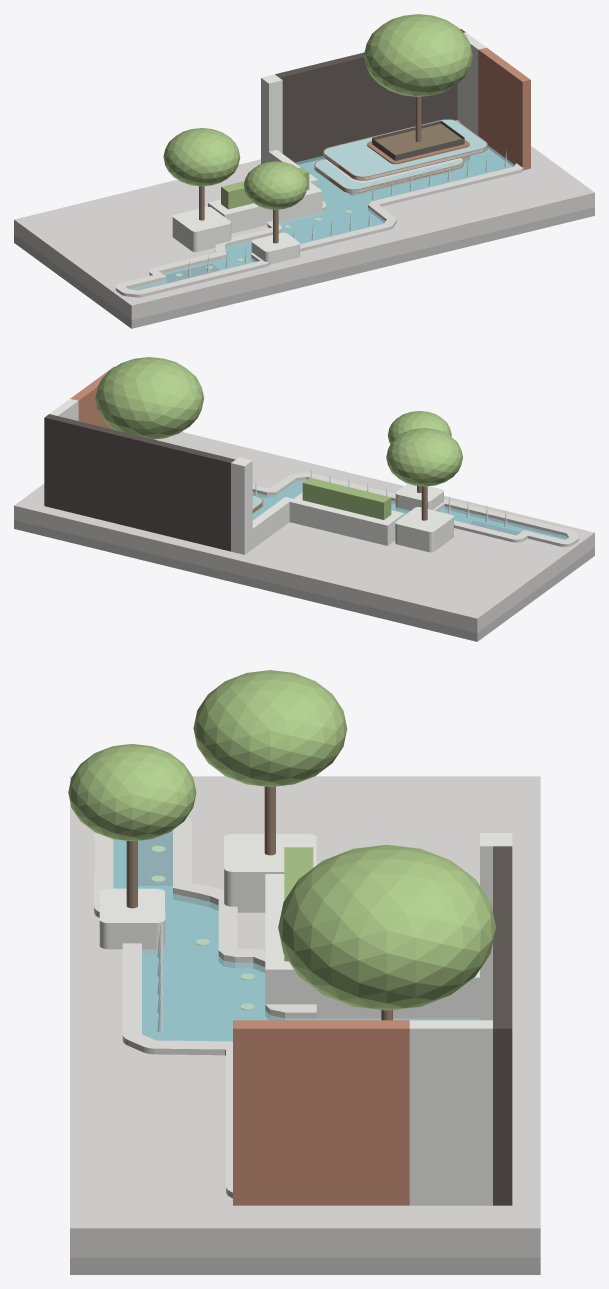
The model's file is water_feature_v03.glb.
3 renders of one model, top to bottom at view 1: azimuth 30°, elevation 25°; view 2: azimuth 150°, elevation 25°; view 3: azimuth 270°, elevation 25°, orthographic. The views are drawn at different scales.
Parts seen in each view (by area): view 1: Paving deck FFL+15.25, Feature wall (north) TOW 18.30, Water WL+15.25, Feature tree in planter canopy, Pool base (granite slab on frames), Structural slab, East wall (brick clad), Tree (north planter) canopy, Granite coping / kerb TOK+15.35_0, Upper cascade tray TOW+15.70, Water film WL+15.70, West planter wall + hedge planter (+15 smaller); view 2: Paving deck FFL+15.25, Feature wall (north) TOW 18.30, Feature tree in planter canopy, Structural slab, West planter wall + hedge planter, Tree (north planter) canopy, Granite coping / kerb TOK+15.35_0, Hedge (indicative), Pier NW, Tree planter (north), Water WL+15.25, Granite coping / kerb TOK+15.35_1 (+5 smaller); view 3: Paving deck FFL+15.25, East wall (brick clad), Feature tree in planter canopy, Water WL+15.25, Pier NE, Tree (north planter) canopy, Pool base (granite slab on frames), Tree (south planter) canopy, Structural slab, Feature wall (north) TOW 18.30, West planter wall + hedge planter, Granite coping / kerb TOK+15.35_0 (+9 smaller).
Boxes of the visible parts, left/top/right/bottom form: Paving deck FFL+15.25: left=14, top=146, right=594, bottom=319; Feature wall (north) TOW 18.30: left=275, top=29, right=465, bottom=164; Water WL+15.25: left=129, top=145, right=514, bottom=290; Feature tree in planter canopy: left=364, top=14, right=472, bottom=96; Pool base (granite slab on frames): left=135, top=148, right=512, bottom=290; Structural slab: left=14, top=207, right=594, bottom=328; East wall (brick clad): left=478, top=47, right=530, bottom=169; Tree (north planter) canopy: left=163, top=128, right=240, bottom=186; Granite coping / kerb TOK+15.35_0: left=115, top=220, right=282, bottom=297; Upper cascade tray TOW+15.70: left=323, top=120, right=487, bottom=180; Water film WL+15.70: left=324, top=119, right=486, bottom=176; West planter wall + hedge planter: left=208, top=150, right=322, bottom=233; Paving deck FFL+15.25: left=14, top=432, right=594, bottom=632; Feature wall (north) TOW 18.30: left=44, top=414, right=235, bottom=551; Feature tree in planter canopy: left=95, top=357, right=203, bottom=439; Structural slab: left=14, top=520, right=594, bottom=641; West planter wall + hedge planter: left=252, top=492, right=404, bottom=548; Tree (north planter) canopy: left=386, top=428, right=462, bottom=486; Granite coping / kerb TOK+15.35_0: left=432, top=499, right=578, bottom=546; Hedge (indicative): left=302, top=477, right=391, bottom=519; Pier NW: left=231, top=457, right=252, bottom=554; Tree planter (north): left=395, top=507, right=453, bottom=552; Water WL+15.25: left=252, top=479, right=567, bottom=539; Granite coping / kerb TOK+15.35_1: left=252, top=472, right=395, bottom=503; Paving deck FFL+15.25: left=70, top=776, right=540, bottom=1257; East wall (brick clad): left=233, top=1020, right=409, bottom=1205; Feature tree in planter canopy: left=278, top=844, right=495, bottom=1010; Water WL+15.25: left=113, top=830, right=479, bottom=1041; Pier NE: left=409, top=1020, right=492, bottom=1205; Tree (north planter) canopy: left=193, top=670, right=347, bottom=787; Pool base (granite slab on frames): left=113, top=839, right=268, bottom=1041; Tree (south planter) canopy: left=68, top=744, right=196, bottom=841; Structural slab: left=70, top=832, right=540, bottom=1274; Feature wall (north) TOW 18.30: left=493, top=846, right=512, bottom=1205; West planter wall + hedge planter: left=265, top=874, right=479, bottom=1020; Granite coping / kerb TOK+15.35_0: left=94, top=817, right=265, bottom=972.
Size of the model in its own units: 16.69 by 5.53 by 7.37.
